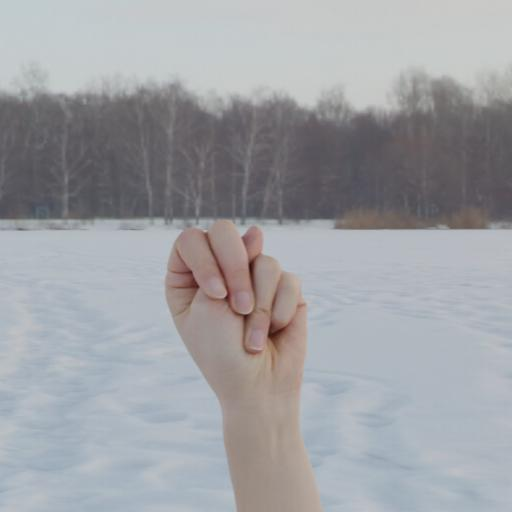N: (162, 219, 312, 396)
